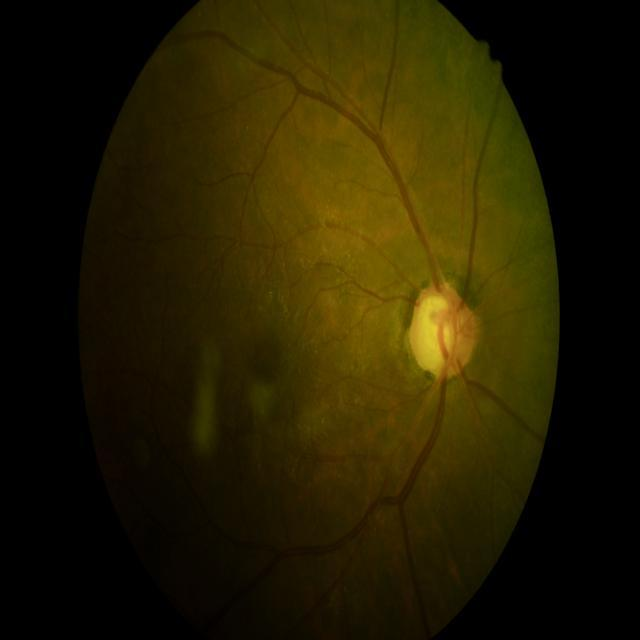cup: (418, 294, 462, 367)
disk: (410, 282, 478, 380)
